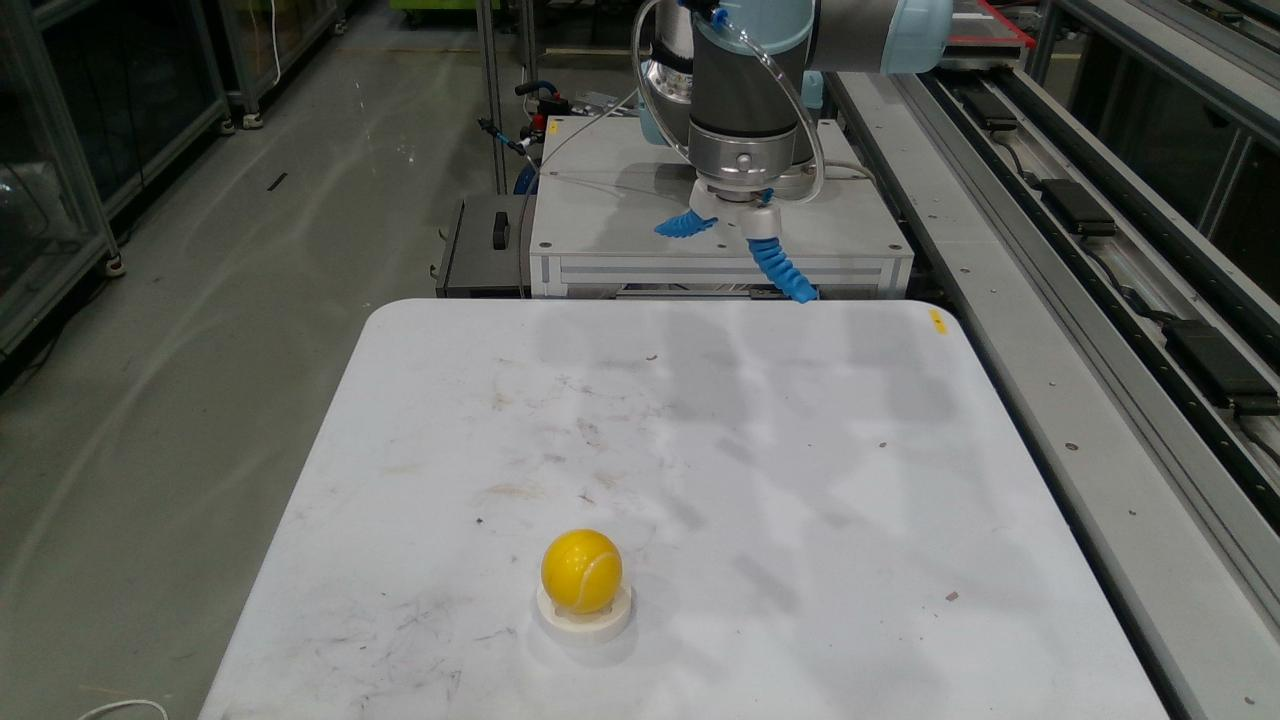UR5: (636, 2, 950, 237)
gripper_left: (654, 209, 717, 238)
gripper_right: (752, 238, 808, 300)
target: (544, 530, 618, 611), (537, 585, 631, 640)
